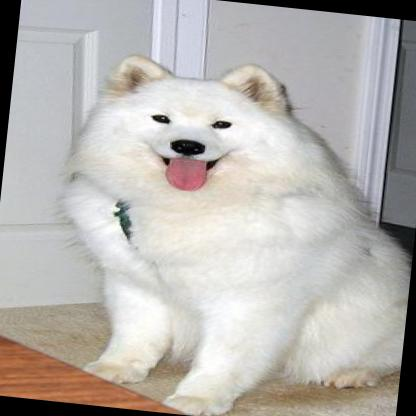Samoyed: (47, 48, 416, 416)
